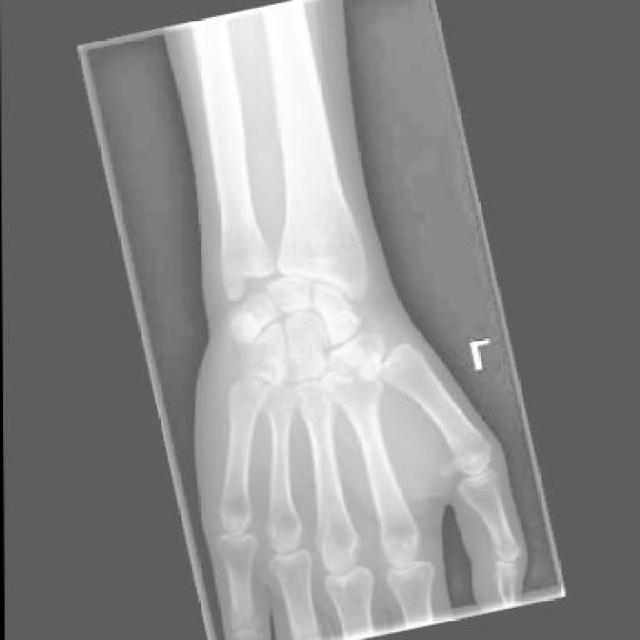Fracture: (311, 297, 361, 337)
